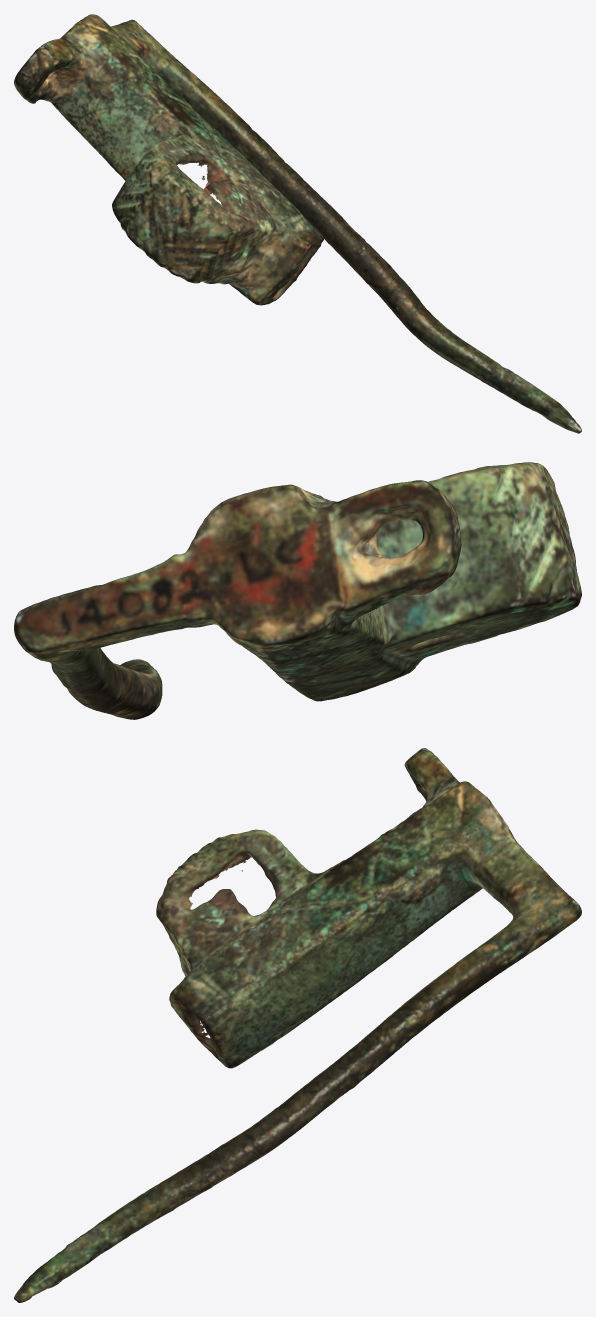
The picture shows the model from 3 angles, top to bottom: view 1: azimuth 30°, elevation 25°; view 2: azimuth 150°, elevation 25°; view 3: azimuth 270°, elevation 25°; orthographic projection. The views are drawn at different scales.
Parts seen in each view (by area): view 1: Node; view 2: Node; view 3: Node.
Part boxes in pixels (box(x1,y1,x2,y2)): Node: box(14, 14, 581, 433); Node: box(14, 462, 581, 719); Node: box(14, 748, 581, 1302).
Size of the model in its own units: 41 by 35.17 by 49.32.
1 material, 1 textured.
